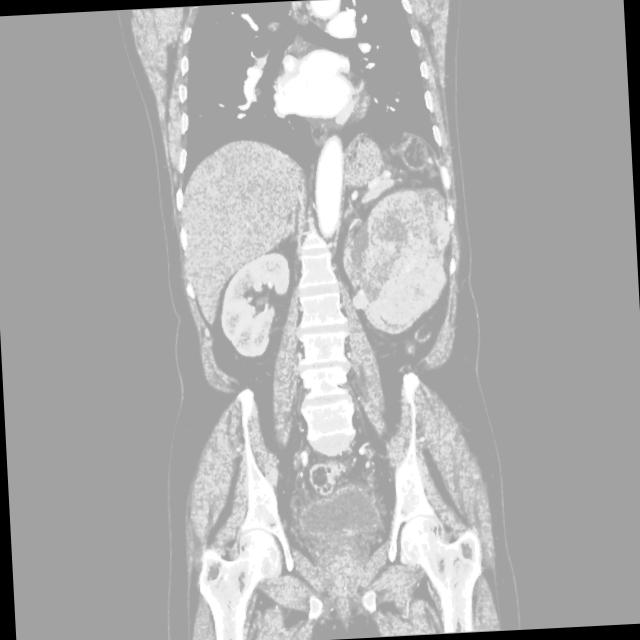TUMOR: (116, 174, 540, 424)
